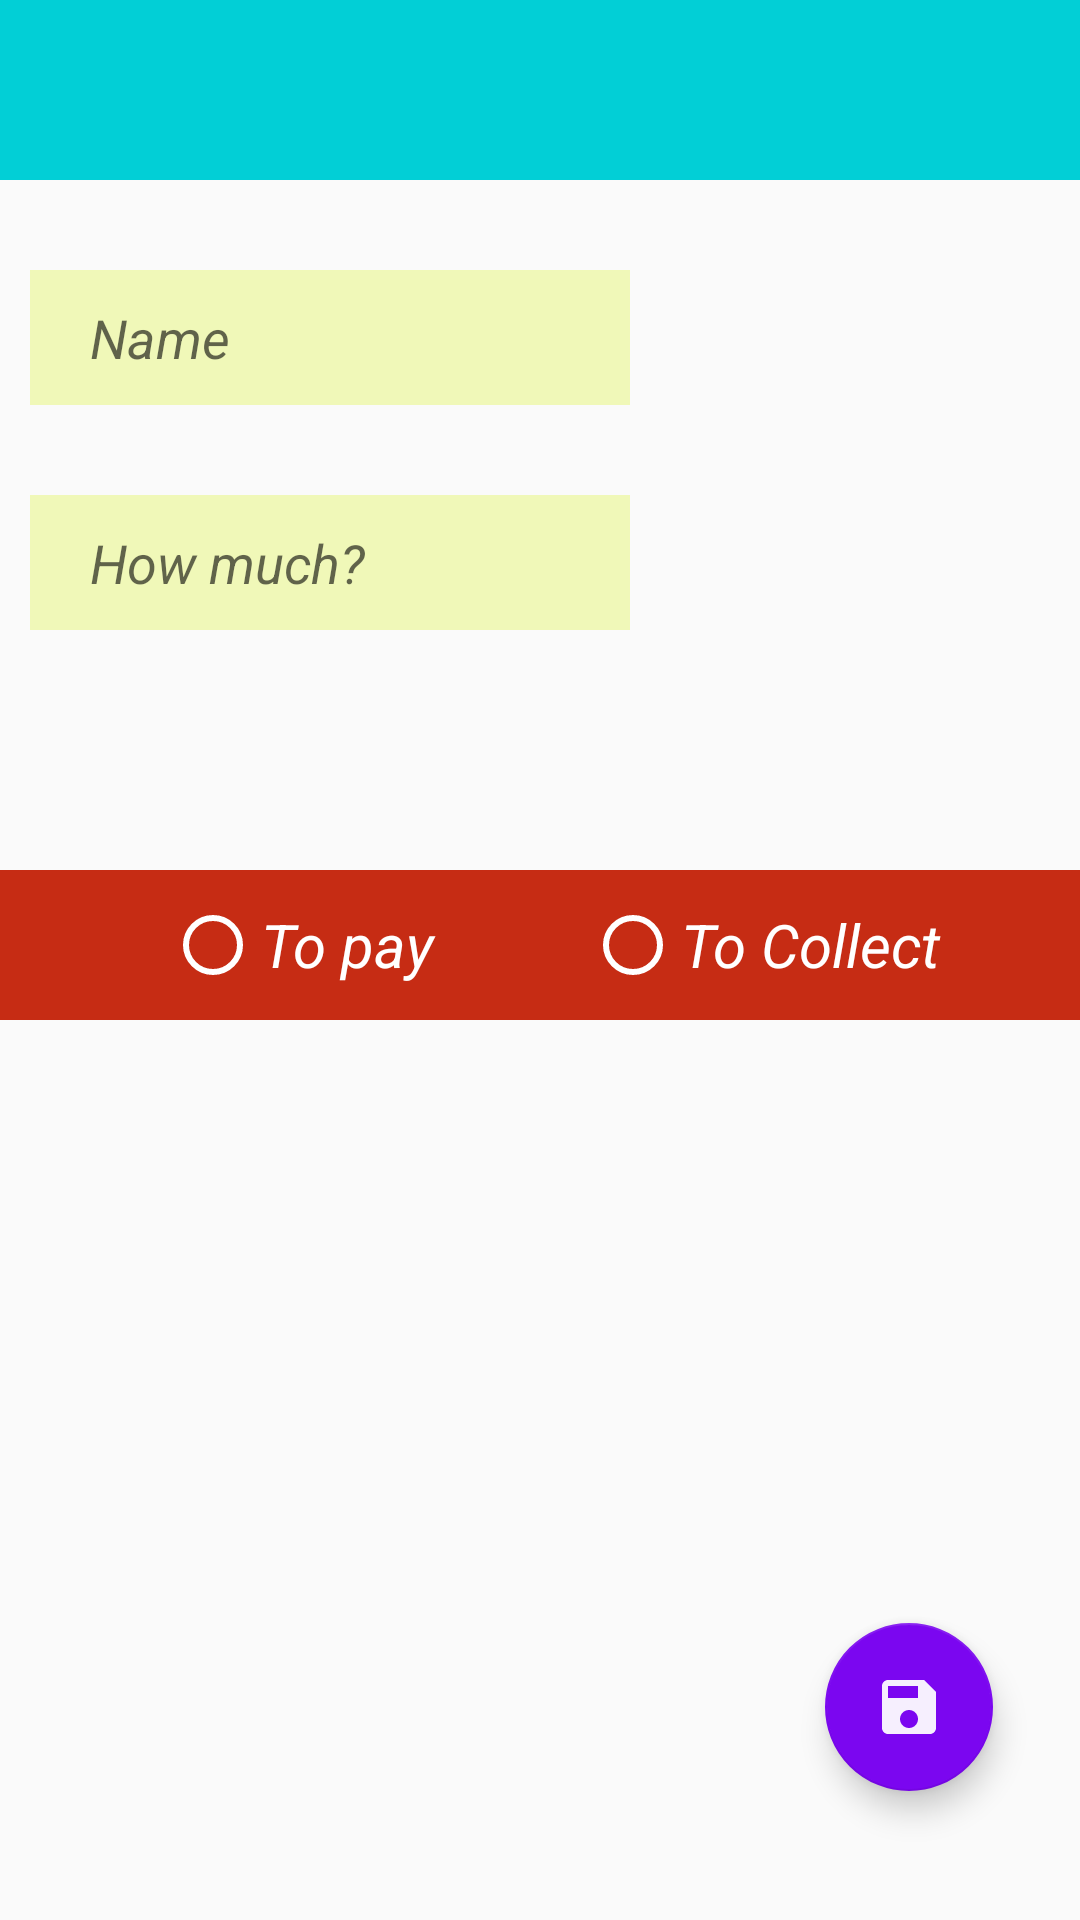

Locate icon controls on the screen. Image size 1080px×1920px, boxes as (x1, y1, x2, y2).
save: (825, 1623, 993, 1791)
